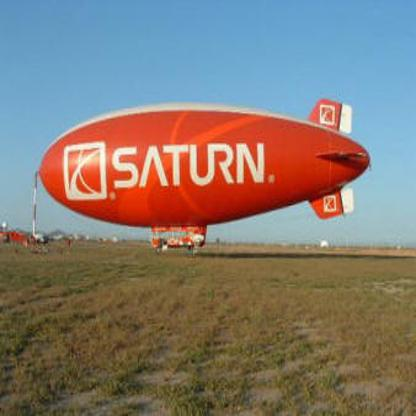Airship: (34, 97, 373, 251)
